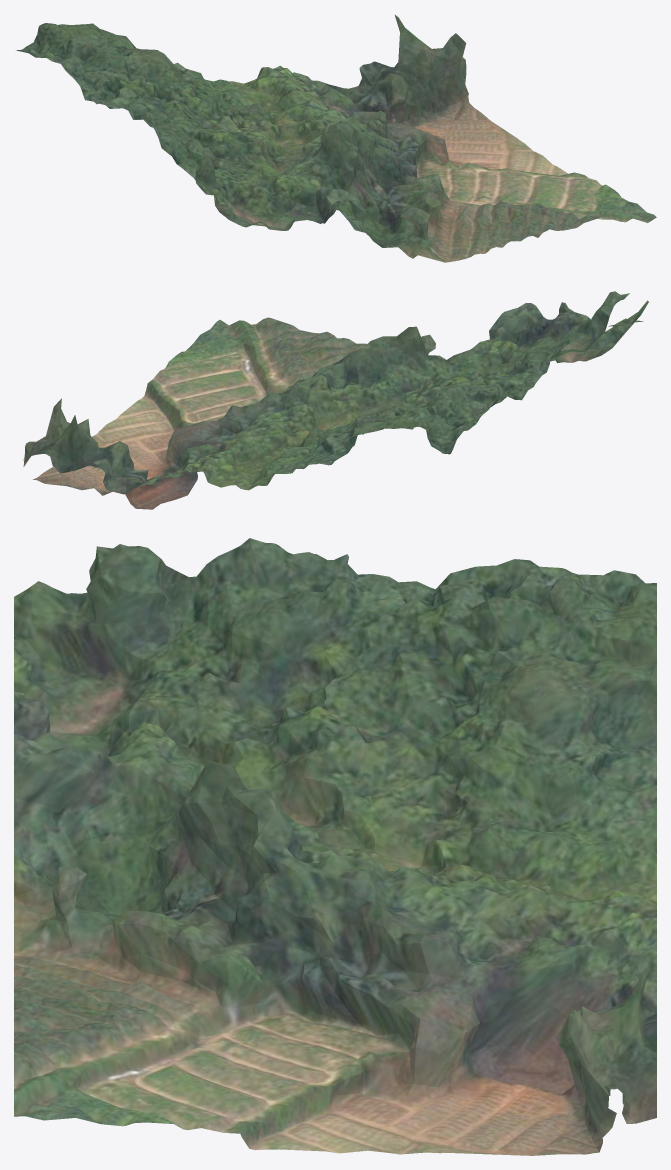
Rendered from Tile_+006_+002_L20_000000t1.glb.
3 renders of one model, top to bottom at view 1: azimuth 30°, elevation 25°; view 2: azimuth 150°, elevation 25°; view 3: azimuth 270°, elevation 25°, orthographic. The views are drawn at different scales.
Parts seen in each view (by area): view 1: rtc; view 2: rtc; view 3: rtc.
Part boxes in pixels (x1,y1,x2,y2): rtc: [16, 15, 656, 262]; rtc: [23, 291, 648, 509]; rtc: [14, 538, 656, 1155].
Bounding box in the file's own units: 31.45 × 13.34 × 25.69.
1 material, 1 textured.
